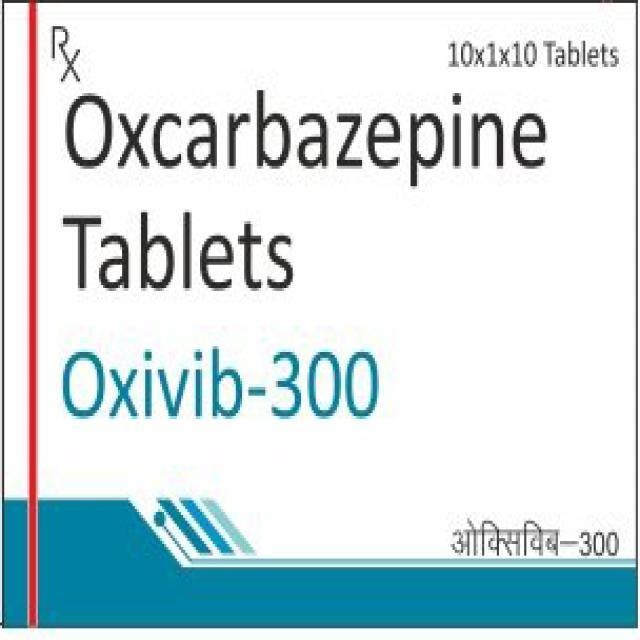drug-name: (59, 337, 384, 424)
